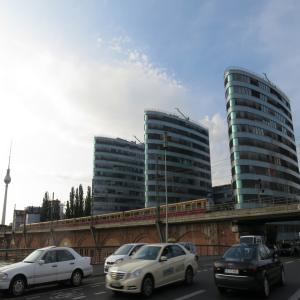Vehicle-registration-plate: (227, 271, 240, 275)
